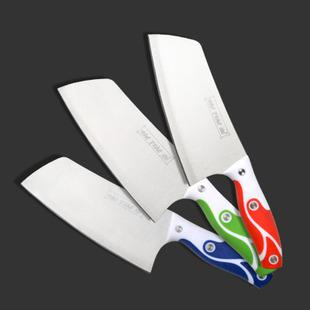knife: (11, 26, 301, 288)
